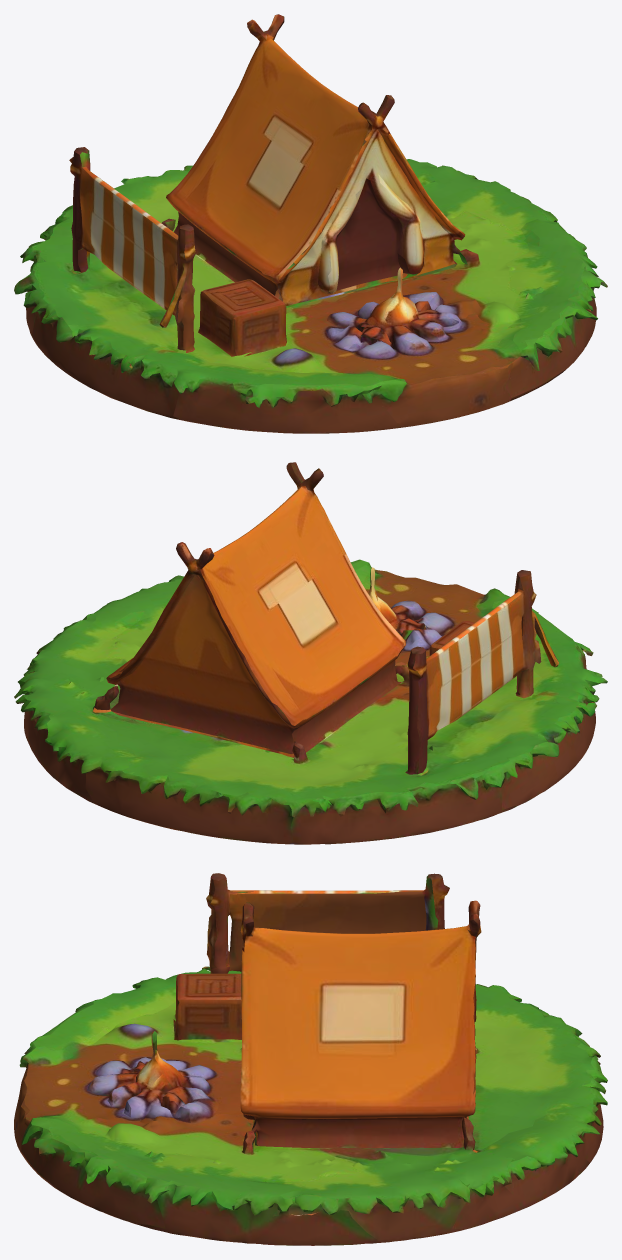
File: camp.glb
The picture shows the model from 3 angles, top to bottom: view 1: azimuth 30°, elevation 25°; view 2: azimuth 150°, elevation 25°; view 3: azimuth 270°, elevation 25°; orthographic projection. The views are drawn at different scales.
Visible parts, largest first — view 1: camp; view 2: camp; view 3: camp.
Part boxes in pixels (box(x1,y1,x2,y2)): camp: box(14, 14, 607, 433); camp: box(14, 462, 607, 844); camp: box(14, 873, 607, 1245).
Bounding box in the file's own units: 0.9923 × 0.4388 × 1.
1 material, 1 textured.
